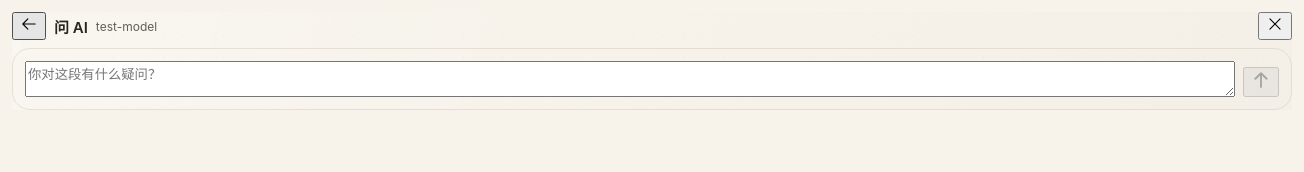
it: EPUB conversation requests › keeps IME Enter from submitting and preserves failed questions for retry
Later steps or results of the test are not shown.
Check: the text "test-model" is shown, box [96,18,157,34]
Type "我的问题" into the text box at [630, 79], box [25,61,1235,97]
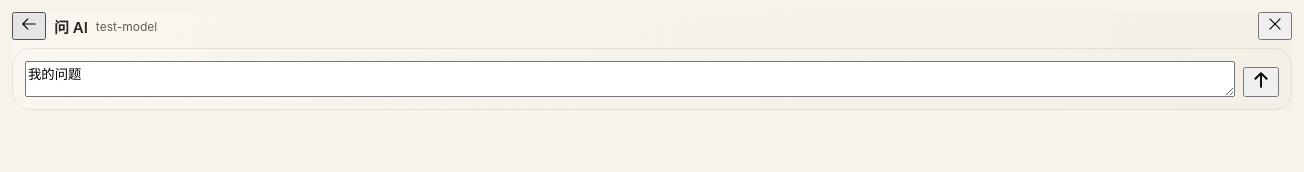
Press Enter in the text box, box [25,61,1235,97]
Press Enter in the text box, box [25,61,1235,97]
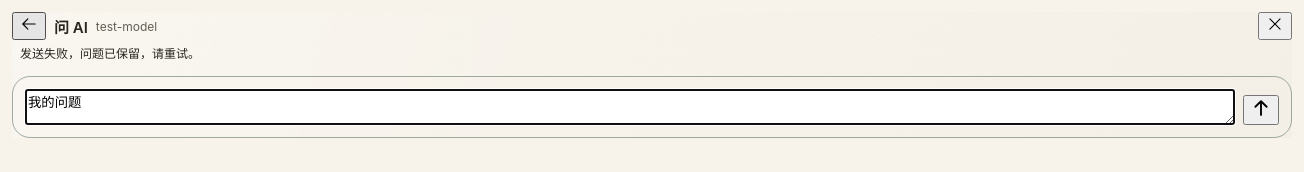
Check: the message "发送失败，问题已保留，请重试。" is shown, box [20,46,200,61]
